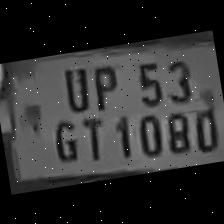0: (186, 96, 222, 154), (130, 105, 165, 158)
1: (105, 108, 136, 160)
3: (159, 52, 196, 104)
5: (128, 54, 165, 108)
8: (160, 105, 192, 156)
G: (47, 113, 82, 163)
P: (85, 58, 124, 111)
T: (76, 112, 110, 162)
U: (55, 59, 92, 112)
